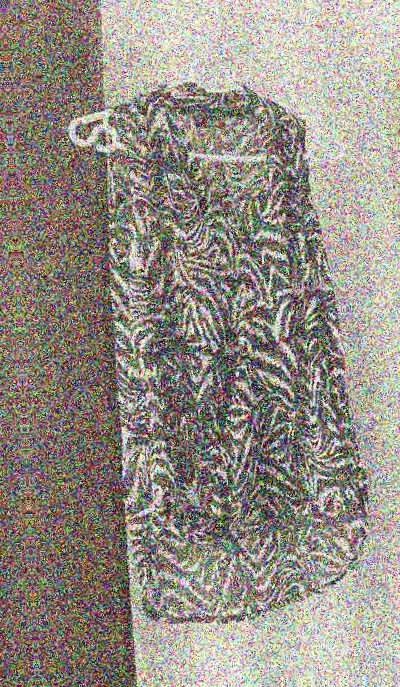Dress: (45, 57, 400, 642)
